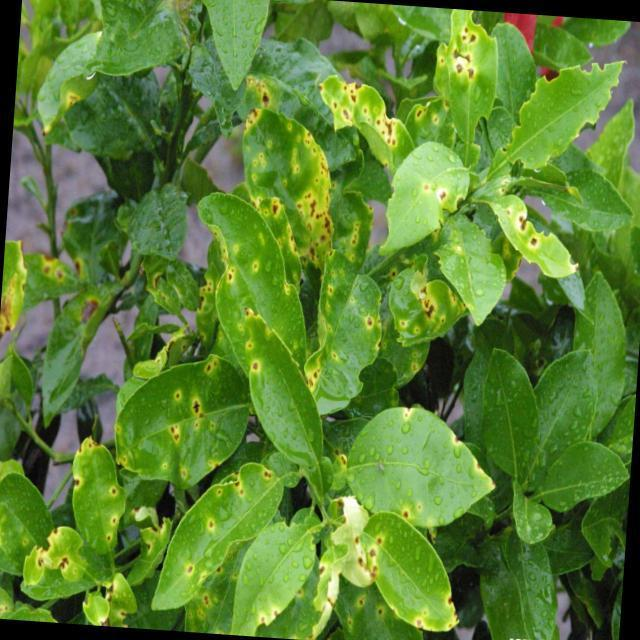Bacterial Spot: (160, 459, 284, 624), (236, 107, 342, 260), (305, 211, 382, 388), (148, 355, 236, 458), (341, 484, 422, 594), (68, 427, 125, 549), (322, 84, 402, 148), (434, 14, 492, 94), (397, 280, 445, 335)
Healthy Leaf: (500, 44, 636, 178), (560, 269, 634, 429), (474, 336, 546, 478), (528, 438, 630, 516), (120, 174, 190, 268)
